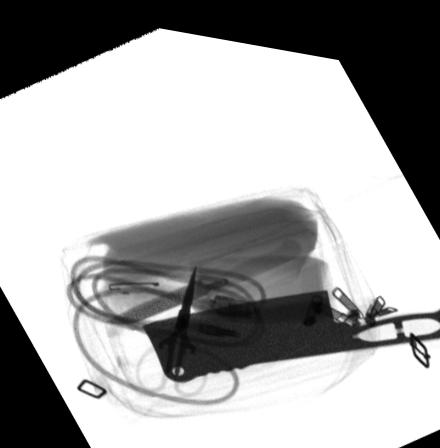Knife: (140, 277, 440, 375)
Scissors: (133, 255, 207, 391)
